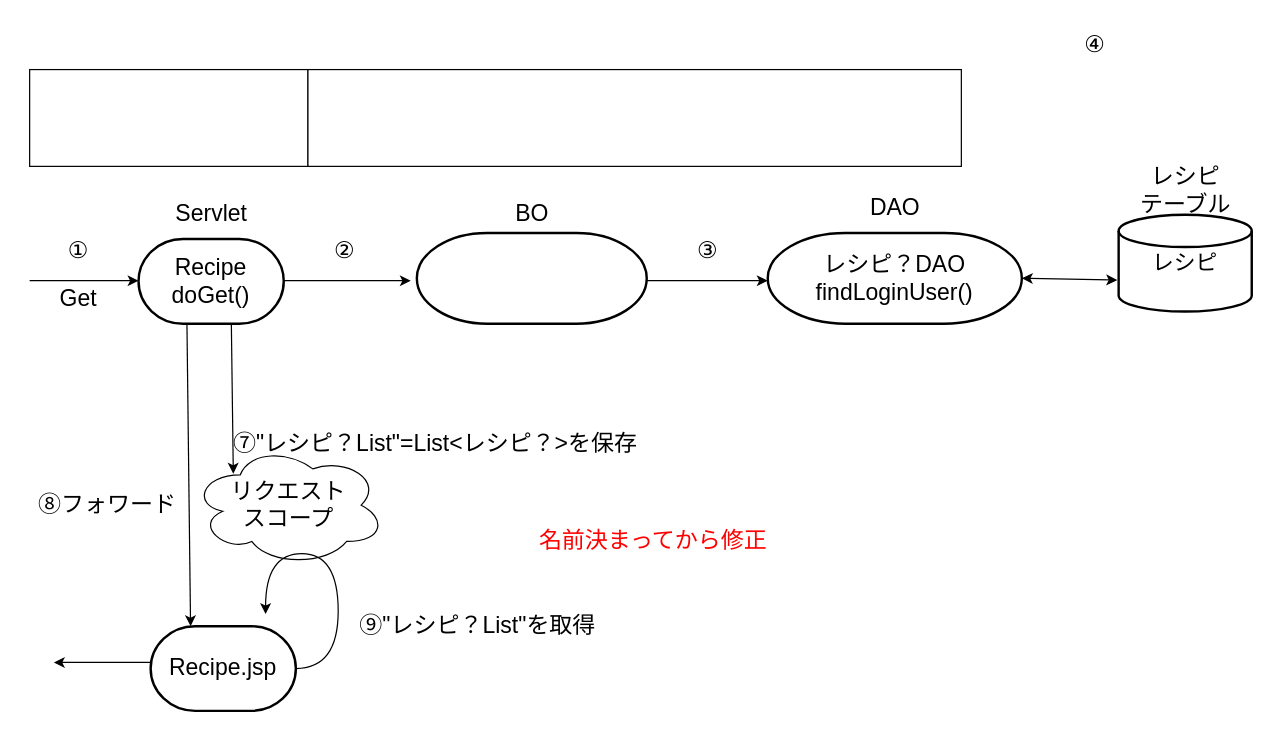
This 1274x732 diagram has some shape labels left out. Here are the shapes that lost their labels. From the top down, the centre of each, then its label:
At (x=168, y=117): "基本アーキテクチャ図".
At (x=634, y=117): "レシピ検索(メイン)".
At (x=531, y=277): "レシピ？ListLogic execute()".
